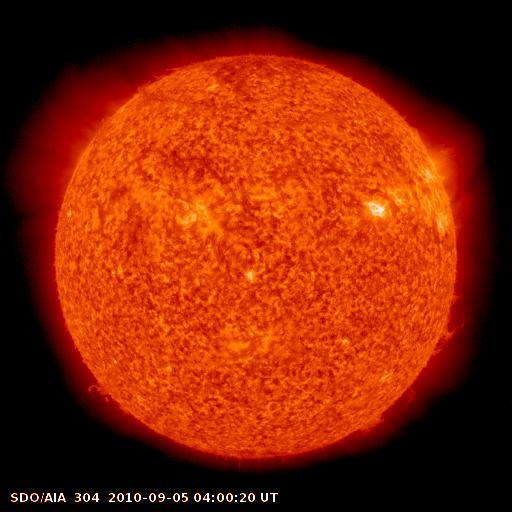prominence: (423, 285, 478, 360), (129, 62, 190, 91), (78, 376, 117, 410)
